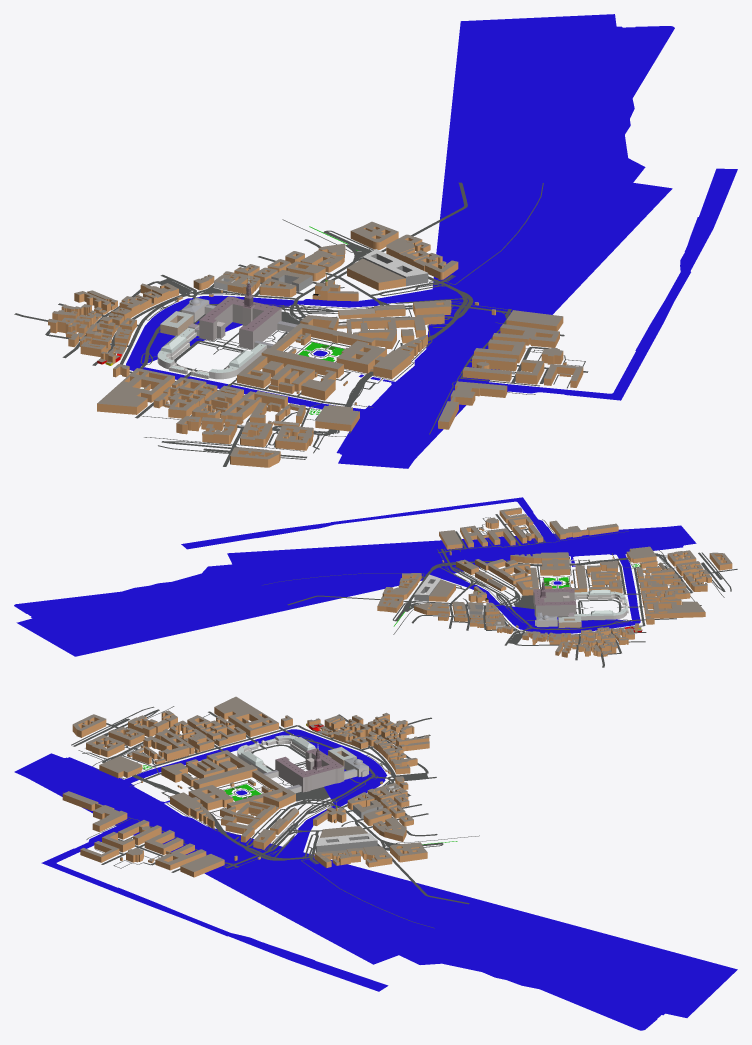
3 renders of one model, top to bottom at view 1: azimuth 30°, elevation 25°; view 2: azimuth 150°, elevation 25°; view 3: azimuth 270°, elevation 25°, orthographic. The views are drawn at different scales.
Visible parts, largest first — view 1: map_6.osm_water, map_6.osm_buildings, map_6.osm_roads_residential, map_6.osm_paths_footway, map_6.osm_roads_service, map_6.osm_roads_tertiary, map_6.osm_roads_primary; view 2: map_6.osm_water, map_6.osm_buildings, map_6.osm_roads_residential, map_6.osm_roads_tertiary, map_6.osm_paths_footway, map_6.osm_roads_service, map_6.osm_roads_primary, map_6.osm_areas_pedestrian; view 3: map_6.osm_water, map_6.osm_buildings, map_6.osm_roads_residential, map_6.osm_roads_tertiary, map_6.osm_paths_footway, map_6.osm_roads_service, map_6.osm_roads_primary.
Boxes of the visible parts, bbox=[...] form: map_6.osm_water: bbox=[126, 14, 737, 468]; map_6.osm_buildings: bbox=[48, 221, 583, 467]; map_6.osm_roads_residential: bbox=[14, 182, 588, 466]; map_6.osm_paths_footway: bbox=[107, 183, 585, 451]; map_6.osm_roads_service: bbox=[158, 230, 539, 459]; map_6.osm_roads_tertiary: bbox=[139, 256, 511, 458]; map_6.osm_roads_primary: bbox=[323, 231, 473, 435]; map_6.osm_water: bbox=[14, 497, 696, 656]; map_6.osm_buildings: bbox=[377, 507, 732, 657]; map_6.osm_roads_residential: bbox=[287, 514, 737, 667]; map_6.osm_roads_tertiary: bbox=[410, 549, 725, 631]; map_6.osm_paths_footway: bbox=[262, 514, 724, 635]; map_6.osm_roads_service: bbox=[392, 526, 731, 630]; map_6.osm_roads_primary: bbox=[395, 553, 662, 621]; map_6.osm_areas_pedestrian: bbox=[410, 595, 534, 644]; map_6.osm_water: bbox=[14, 729, 737, 1030]; map_6.osm_buildings: bbox=[62, 696, 429, 877]; map_6.osm_roads_residential: bbox=[101, 711, 469, 904]; map_6.osm_roads_tertiary: bbox=[73, 709, 428, 868]; map_6.osm_paths_footway: bbox=[63, 706, 479, 928]; map_6.osm_roads_service: bbox=[71, 706, 443, 865]; map_6.osm_roads_primary: bbox=[102, 761, 442, 860].
Size of the model in its own units: 183251 by 10600 by 171096.
